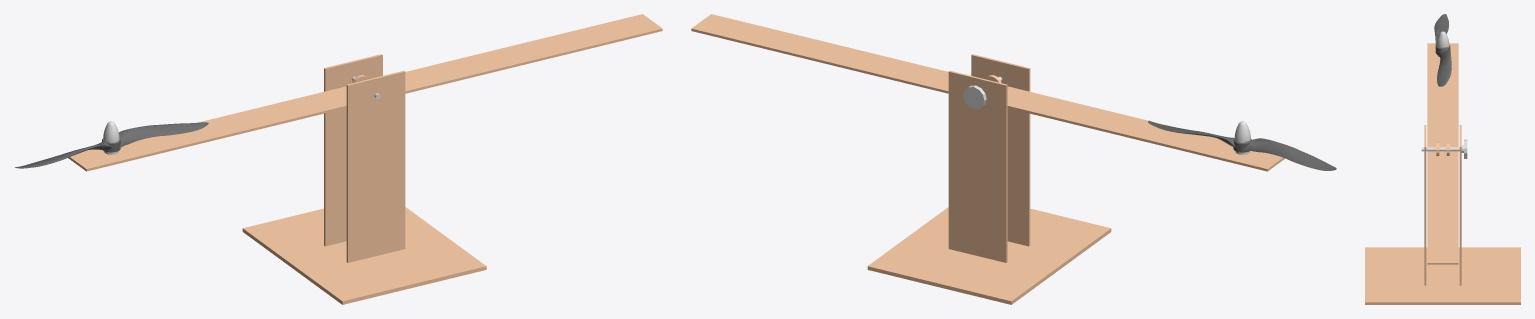
The model's file is Aeroestabilizador.gltf.
3 views of the same model, side by side, from view 1: azimuth 30°, elevation 25°; view 2: azimuth 150°, elevation 25°; view 3: azimuth 270°, elevation 25° (orthographic). The views are drawn at different scales.
Visible parts, largest first — view 1: haste.001, base horizontal.001, base vertical.001, base vertical.002, APC Prop 14x8; view 2: haste.001, base horizontal.001, base vertical.002, base vertical.001, APC Prop 14x8, servo; view 3: base horizontal.001, haste.001, APC Prop 14x8, base vertical.001, base vertical.002, servo, AP-SP-001-01.
Part boxes in pixels (x1,y1,x2,y2): haste.001: [68, 14, 662, 171]; base horizontal.001: [242, 207, 486, 304]; base vertical.001: [346, 70, 405, 262]; base vertical.002: [324, 54, 382, 246]; APC Prop 14x8: [15, 122, 208, 168]; haste.001: [691, 14, 1284, 171]; base horizontal.001: [867, 207, 1111, 304]; base vertical.002: [948, 70, 1007, 262]; base vertical.001: [971, 54, 1030, 246]; APC Prop 14x8: [1148, 120, 1336, 170]; servo: [963, 76, 1002, 109]; base horizontal.001: [1365, 247, 1520, 304]; haste.001: [1427, 43, 1458, 264]; APC Prop 14x8: [1434, 14, 1451, 86]; base vertical.001: [1424, 125, 1426, 285]; base vertical.002: [1459, 125, 1461, 285]; servo: [1421, 139, 1467, 158]; AP-SP-001-01: [1436, 31, 1449, 47].
Size of the model in its own units: 1.1 by 0.3167 by 0.3.
